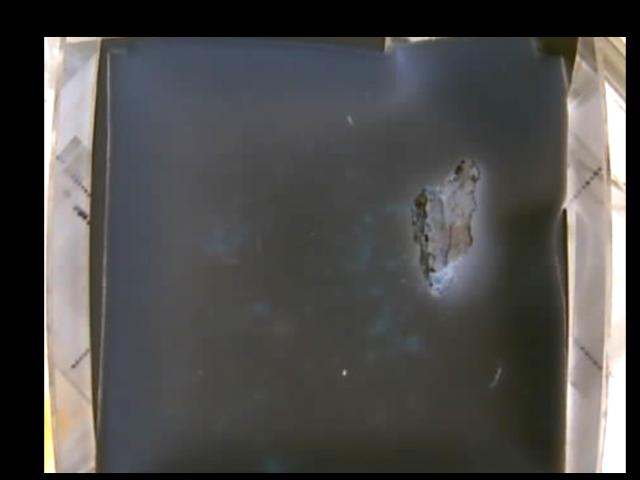Brisk: (414, 159, 480, 296)
